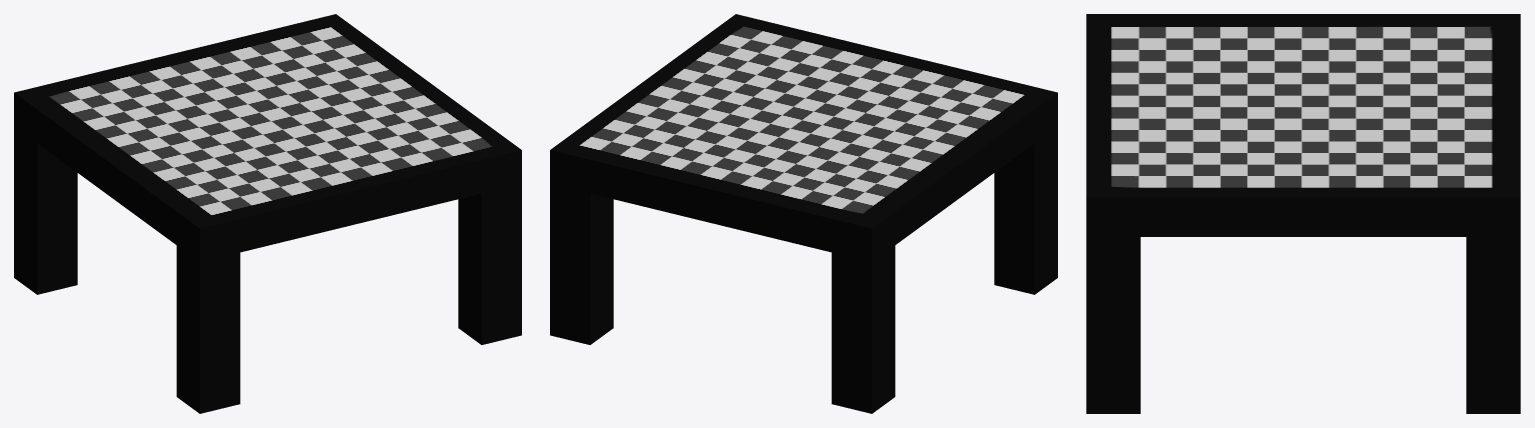
Rendered from CheckerTable.dae.
3 renders of one model, left to right at view 1: azimuth 30°, elevation 25°; view 2: azimuth 150°, elevation 25°; view 3: azimuth 270°, elevation 25°, orthographic. The views are drawn at different scales.
Parts seen in each view (by area): view 1: Cube; view 2: Cube; view 3: Cube.
Part boxes in pixels (left/top/right/bottom): Cube: left=14, top=14, right=521, bottom=413; Cube: left=550, top=14, right=1057, bottom=413; Cube: left=1086, top=14, right=1520, bottom=413.
Size of the model in its own units: 2 by 2 by 1.1.
